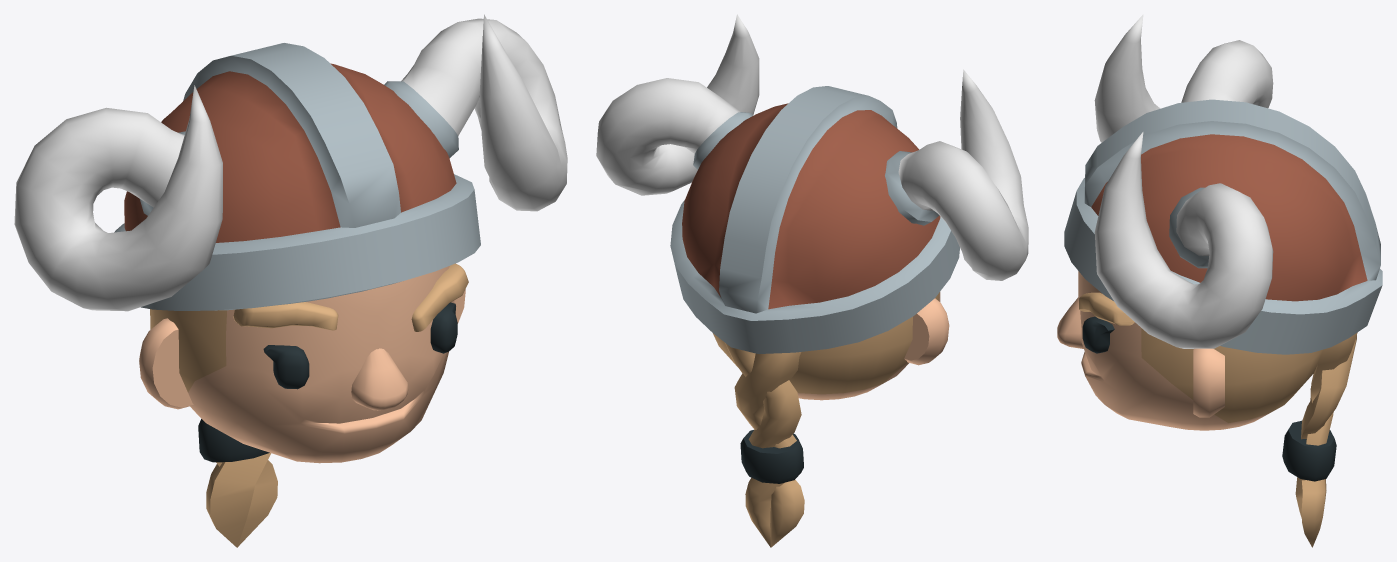
The model's file is vikingFemaleHeadA_helmet.gltf.glb.
3 views of the same model, side by side, from view 1: azimuth 30°, elevation 25°; view 2: azimuth 150°, elevation 25°; view 3: azimuth 270°, elevation 25° (orthographic). The views are drawn at different scales.
Parts seen in each view (by area): view 1: vikingFemaleHeadA_helmet; view 2: vikingFemaleHeadA_helmet; view 3: vikingFemaleHeadA_helmet.
Part boxes in pixels (x1,y1,x2,y2): vikingFemaleHeadA_helmet: [14, 14, 567, 547]; vikingFemaleHeadA_helmet: [596, 14, 1028, 547]; vikingFemaleHeadA_helmet: [1057, 14, 1382, 547].
Size of the model in its own units: 1.95 by 2.01 by 1.25.
